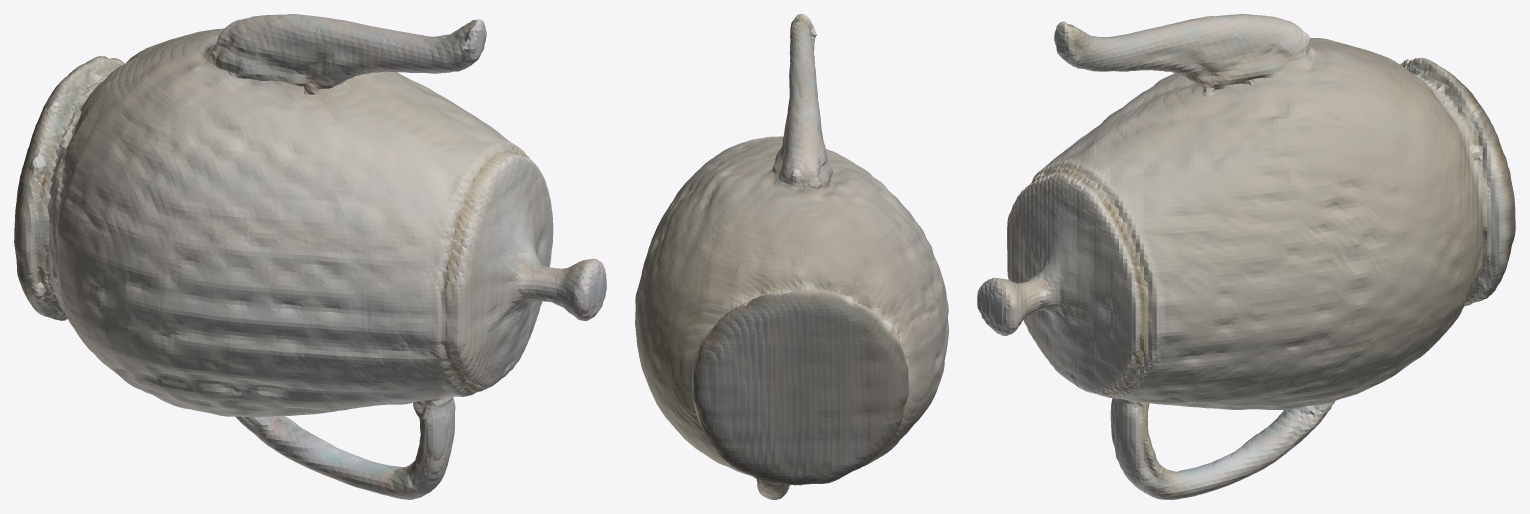
The picture shows the model from 3 angles, left to right: view 1: azimuth 30°, elevation 25°; view 2: azimuth 150°, elevation 25°; view 3: azimuth 270°, elevation 25°; orthographic projection. The views are drawn at different scales.
Visible parts, largest first — view 1: world; view 2: world; view 3: world.
Part boxes in pixels (x1,y1,x2,y2): world: (14, 14, 606, 499); world: (635, 14, 948, 499); world: (977, 14, 1515, 499).
Size of the model in its own units: 0.7264 by 0.8764 by 0.8787.
